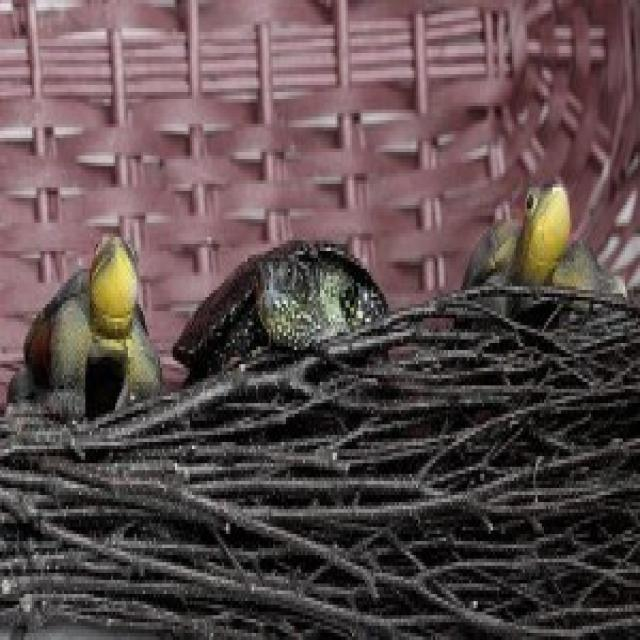Sea turtle: (175, 220, 405, 388), (11, 222, 158, 442), (451, 179, 608, 321)
